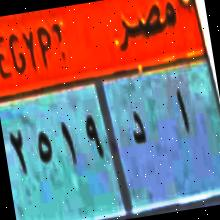1: (58, 116, 80, 170)
2: (3, 118, 32, 182)
5: (32, 123, 55, 174)
9: (78, 113, 107, 168)
alif: (164, 74, 196, 148)
daal: (124, 103, 150, 154)
